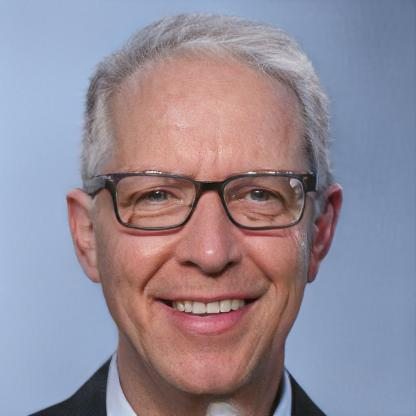glasses: (94, 164, 312, 236)
